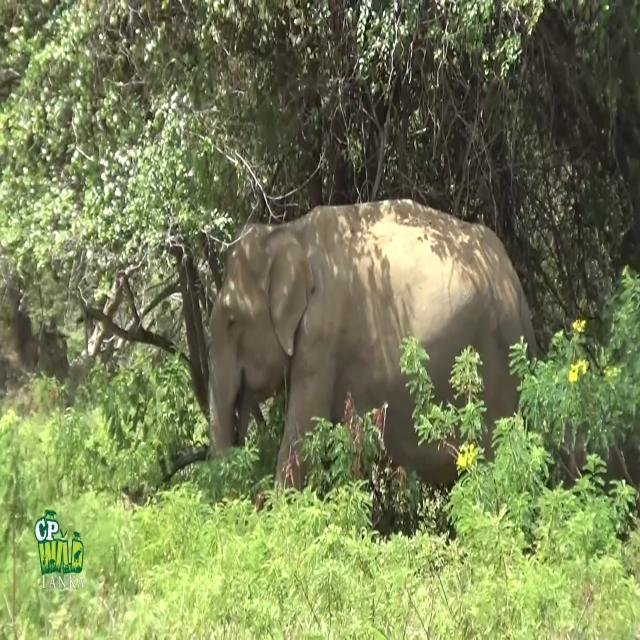Elephant: (207, 197, 539, 500)
